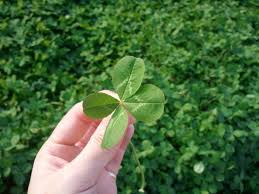4-clover: (82, 54, 164, 148)
